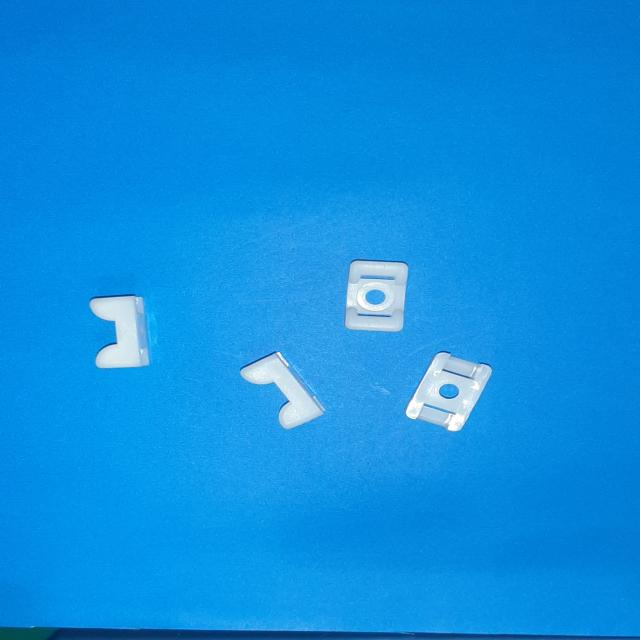false_1: (405, 352, 492, 431)
false_2: (240, 352, 325, 429), (90, 295, 150, 369)
true: (345, 260, 408, 331)
true_center: (365, 289, 386, 305)
